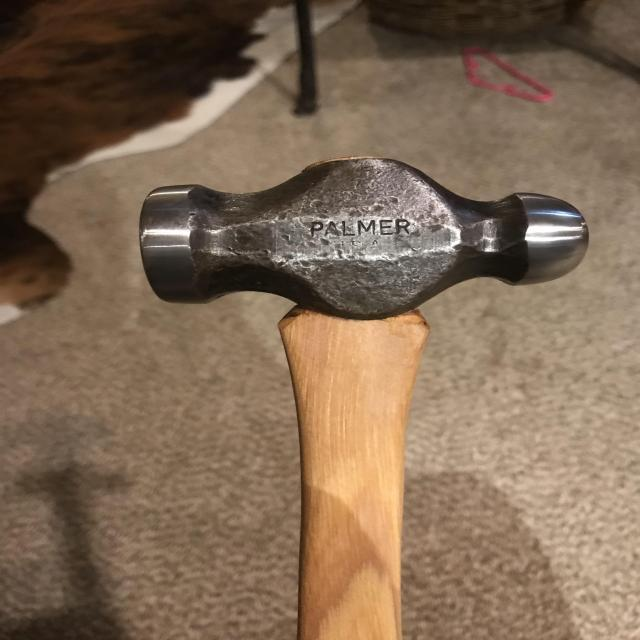hammer: (119, 141, 598, 640)
